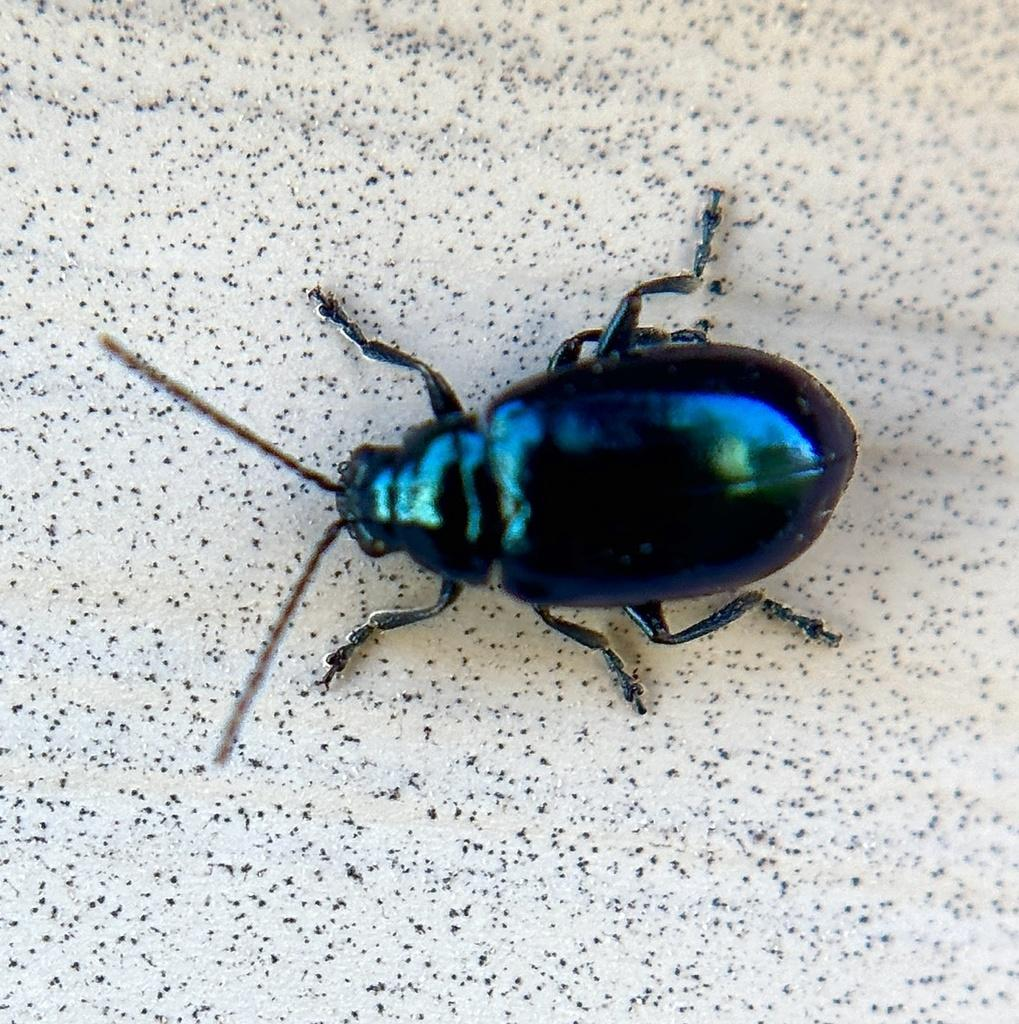flea_beetle: (27, 80, 986, 839)
